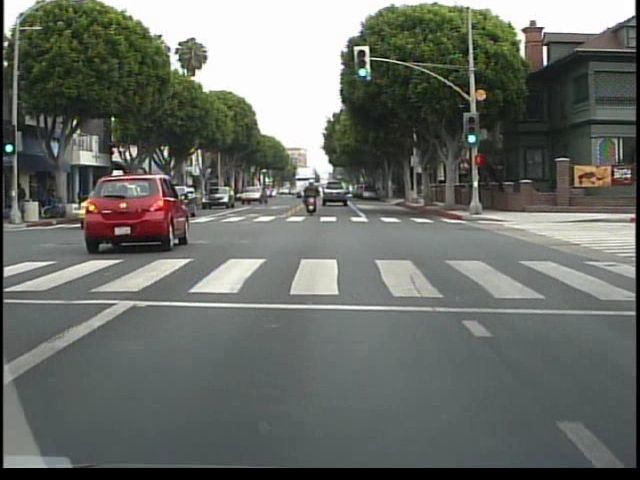person: (302, 177, 324, 222)
